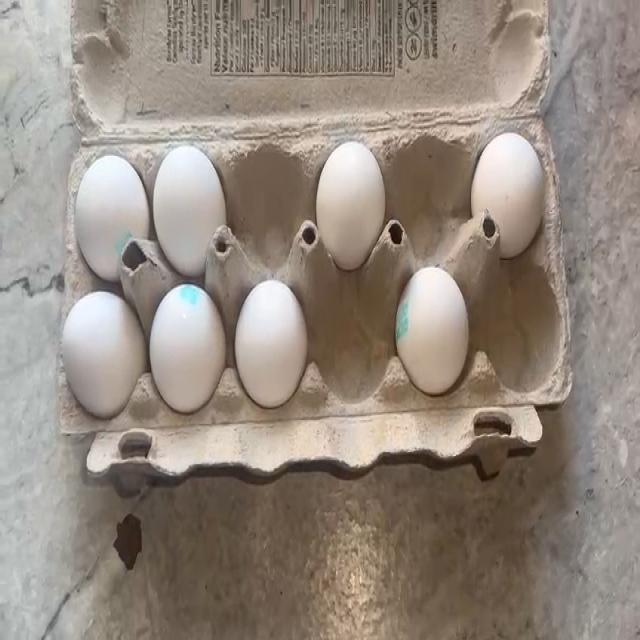Egg: (60, 283, 132, 405), (150, 285, 220, 405), (234, 289, 306, 400), (400, 271, 470, 384), (72, 150, 136, 270), (478, 136, 542, 238), (317, 145, 378, 250), (160, 147, 216, 252)
